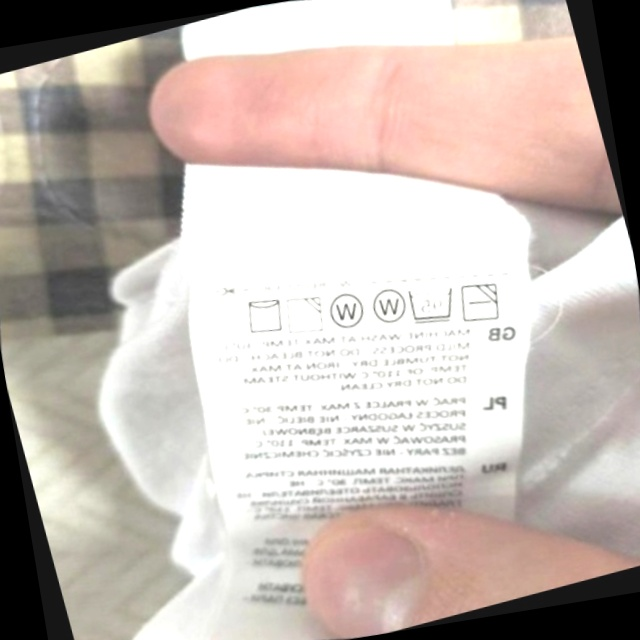95C: (398, 274, 465, 335)
dry_flat_in_shade: (451, 271, 510, 332)
line_dry: (235, 287, 293, 344)
shade_dry: (276, 286, 333, 343)
wet_clean: (360, 276, 415, 334), (319, 283, 374, 340)
